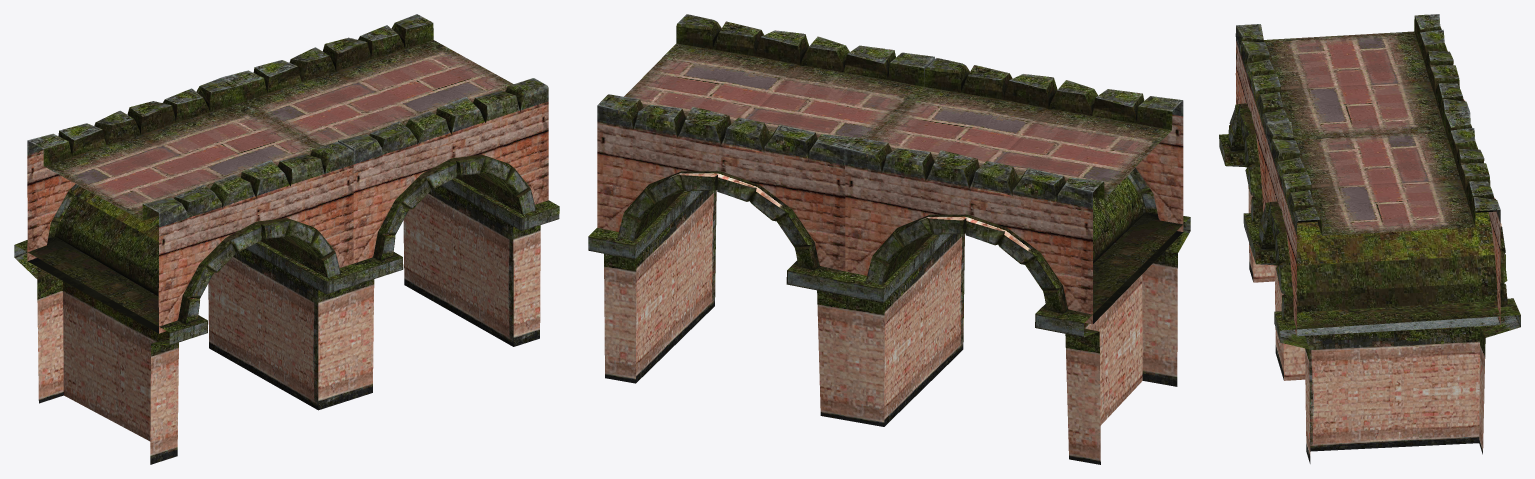
Rendered from Bridge_Straight (6).fbx.
3 views of the same model, side by side, from view 1: azimuth 30°, elevation 25°; view 2: azimuth 150°, elevation 25°; view 3: azimuth 270°, elevation 25° (orthographic). The views are drawn at different scales.
Parts seen in each view (by area): view 1: Bridge_Straight__6_; view 2: Bridge_Straight__6_; view 3: Bridge_Straight__6_.
Part boxes in pixels (x1,y1,x2,y2): Bridge_Straight__6_: (14, 14, 559, 464); Bridge_Straight__6_: (588, 14, 1190, 464); Bridge_Straight__6_: (1219, 14, 1520, 463).
Bounding box in the file's own units: 3333 × 1831 × 2031.
Materials: 1 (1 with a texture image).
